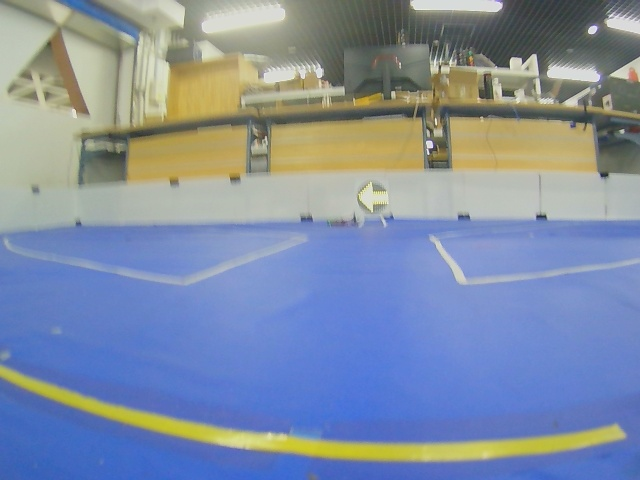left_yellow: (357, 181, 389, 214)
